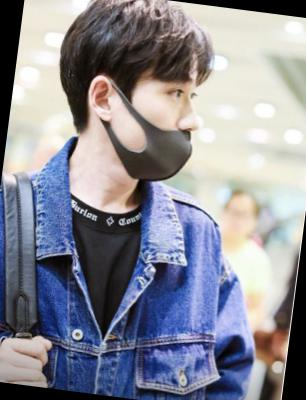mask_weared_incorrect: (109, 67, 206, 187)
